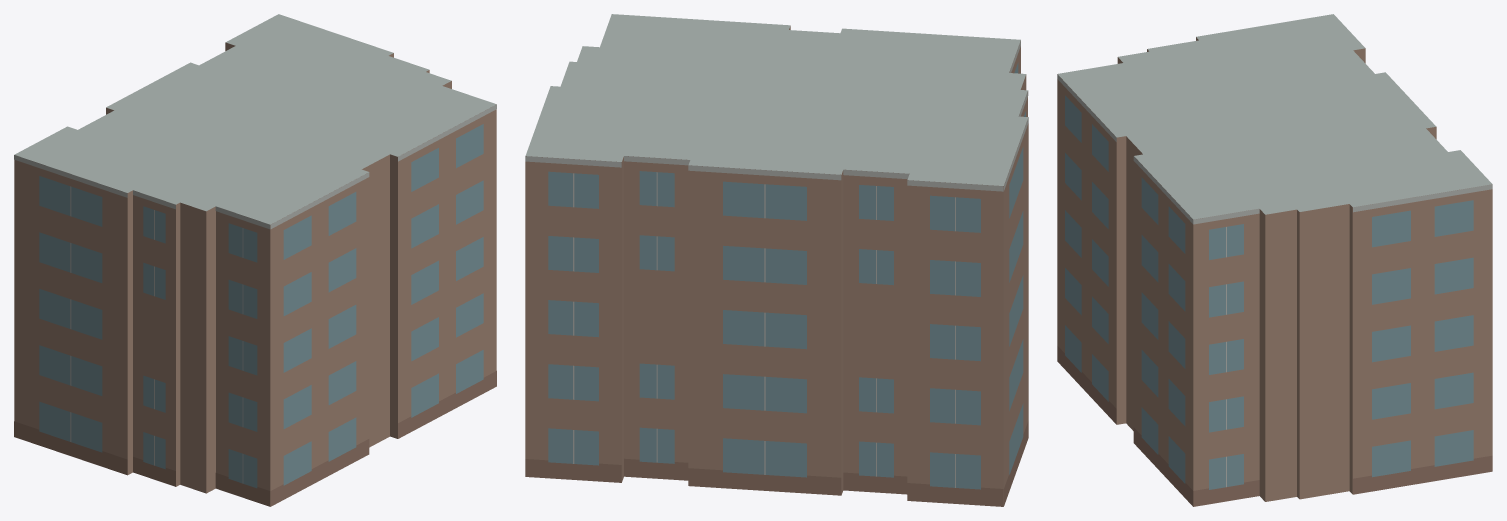
The model's file is survey-upis-32631037.glb.
3 views of the same model, side by side, from view 1: azimuth 30°, elevation 25°; view 2: azimuth 150°, elevation 25°; view 3: azimuth 270°, elevation 25° (orthographic). The views are drawn at different scales.
Visible parts, largest first — view 1: survey-upis-32631037.tmp; view 2: survey-upis-32631037.tmp; view 3: survey-upis-32631037.tmp.
Boxes of the visible parts, x1,y1,x2,y2 form: survey-upis-32631037.tmp: (14, 14, 496, 506); survey-upis-32631037.tmp: (525, 14, 1028, 506); survey-upis-32631037.tmp: (1057, 14, 1492, 506).
Size of the model in its own units: 21.8 by 14.2 by 19.51.
